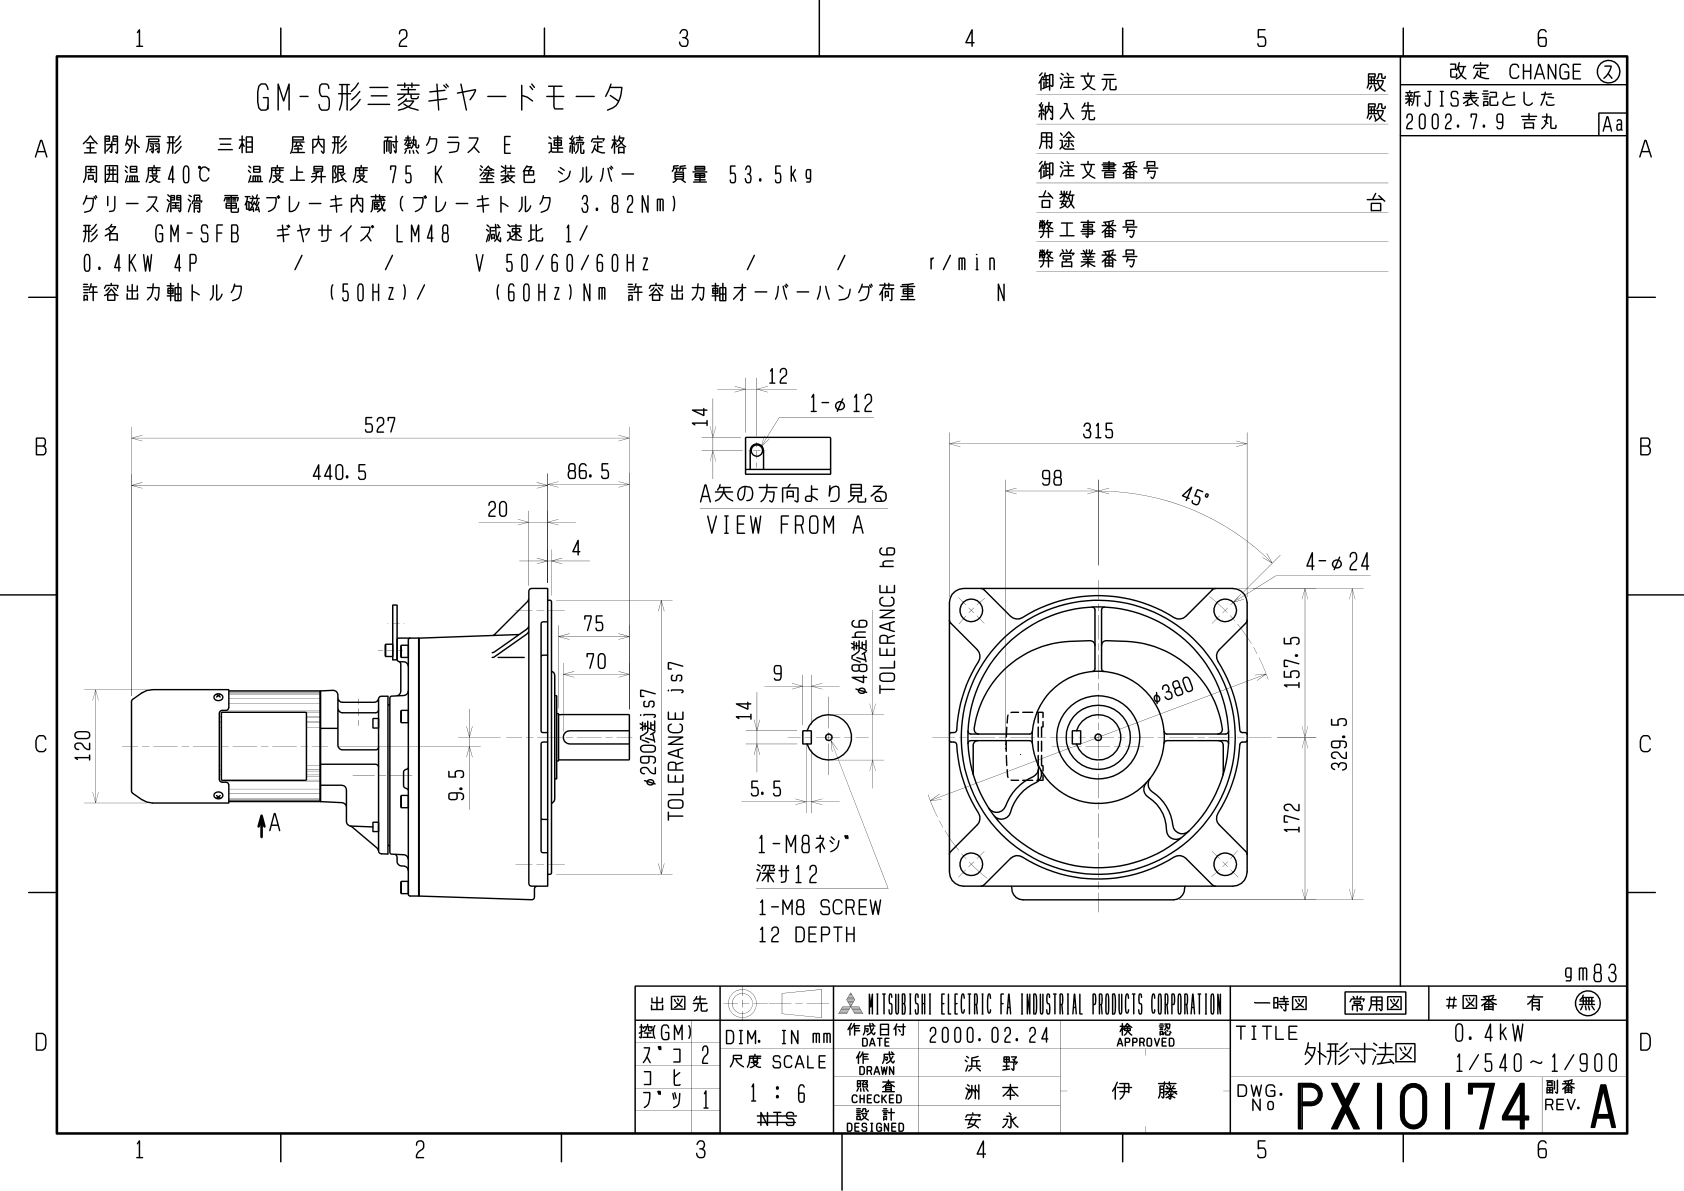GM_S_屋内＿三相_フランジ: (70, 327, 1383, 956)
